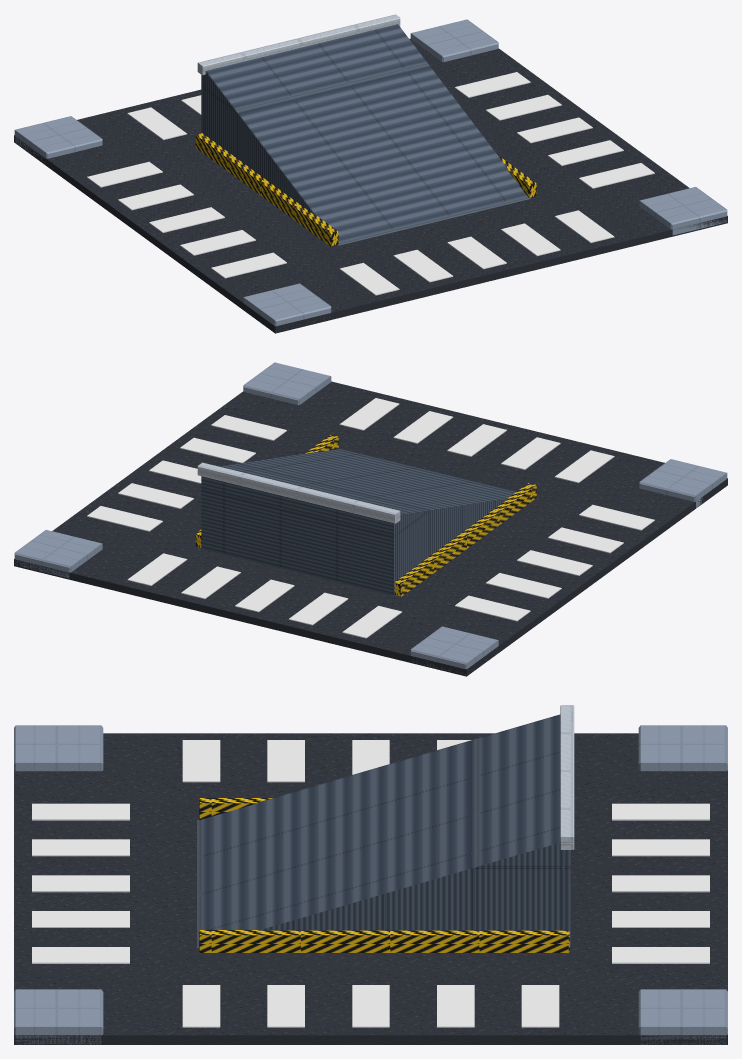
Rendered from road_cross_or_ramp.glb.
3 renders of one model, top to bottom at view 1: azimuth 30°, elevation 25°; view 2: azimuth 150°, elevation 25°; view 3: azimuth 270°, elevation 25°, orthographic. The views are drawn at different scales.
Visible parts, largest first — view 1: road_cross_or_ramp; view 2: road_cross_or_ramp; view 3: road_cross_or_ramp.
Boxes of the visible parts, x1,y1,x2,y2 form: road_cross_or_ramp: [14, 14, 727, 333]; road_cross_or_ramp: [14, 362, 727, 676]; road_cross_or_ramp: [14, 705, 727, 1044].
Bounding box in the file's own units: 8 × 1.52 × 8.
6 materials, 5 textured.
